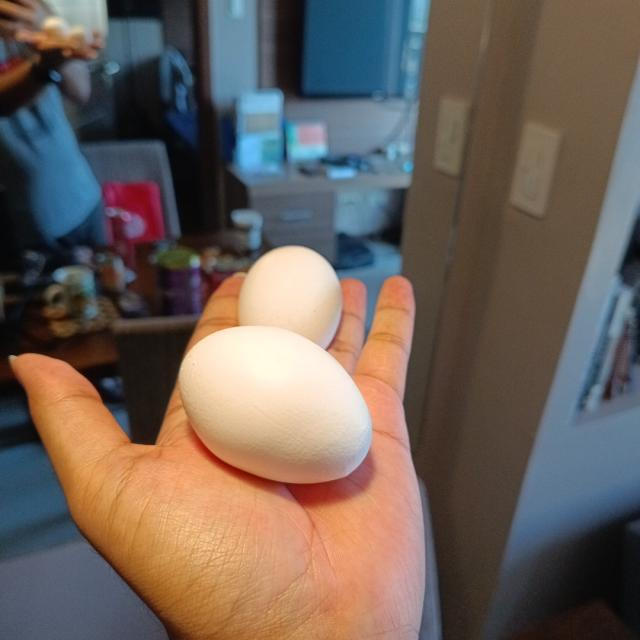egg: (177, 331, 372, 483), (241, 242, 350, 351)
